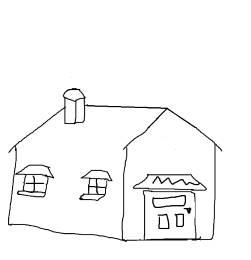bottom_placed_house: (1, 3, 251, 260)
chimney: (54, 75, 96, 133)
closed_window: (14, 162, 64, 200), (69, 166, 116, 204)
door: (129, 168, 209, 247)
roof: (5, 99, 228, 159)
wall: (117, 104, 220, 246)
